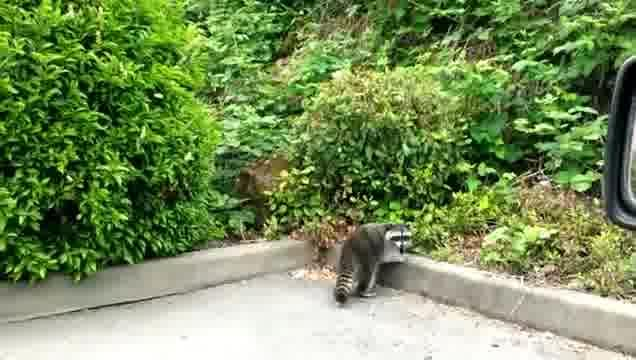raccoon: (331, 219, 414, 306)
